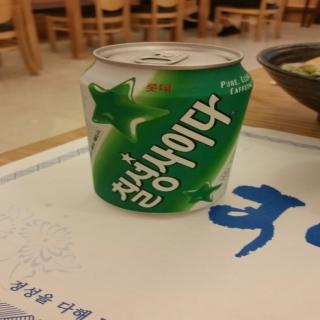chilsung: (74, 40, 255, 214)
